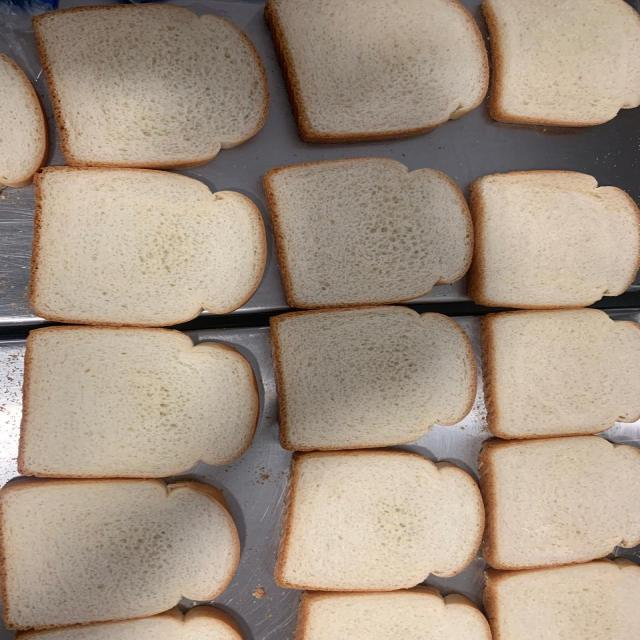sliced_bread: (30, 3, 270, 169), (30, 165, 268, 328), (0, 476, 242, 632), (15, 326, 261, 478), (265, 0, 490, 145), (262, 157, 475, 309), (274, 449, 486, 592), (270, 306, 477, 452), (467, 171, 639, 310), (478, 435, 639, 570), (482, 309, 638, 439), (482, 0, 639, 128)
